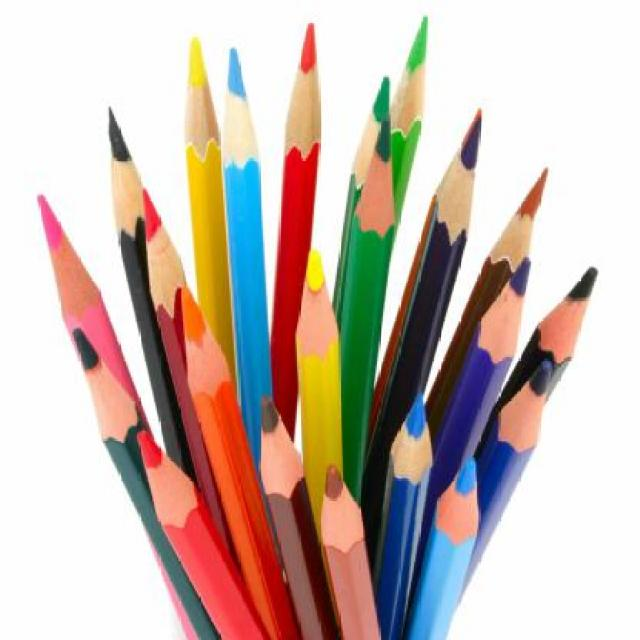pencil: (391, 13, 432, 244)
